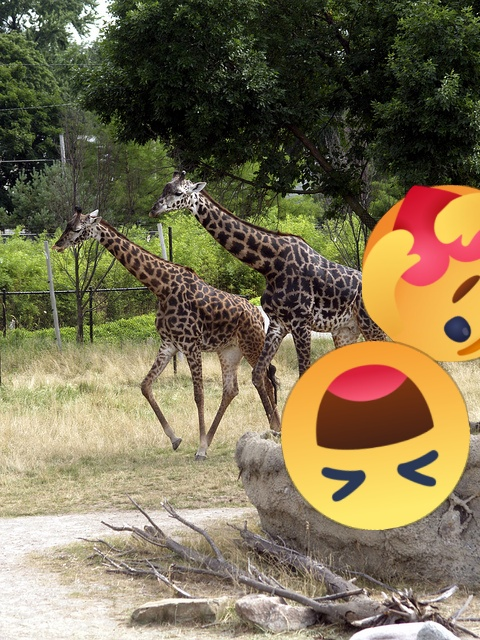care: (362, 185, 480, 362)
haha: (281, 341, 470, 530)
